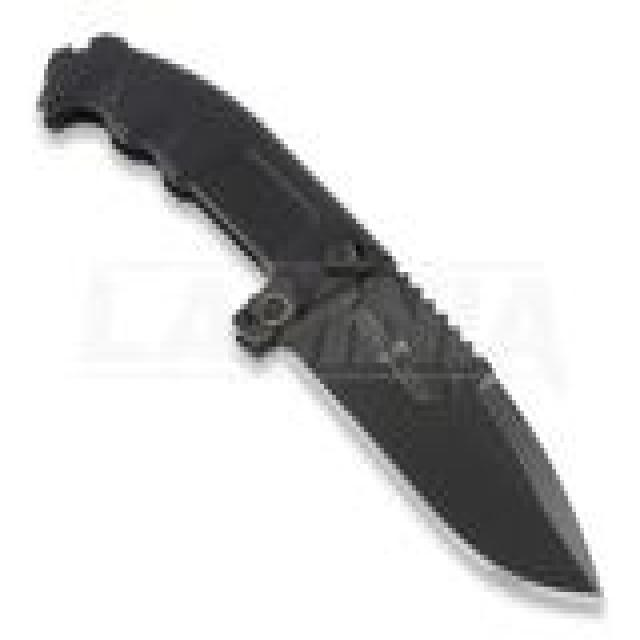Knife: (35, 37, 612, 632)
